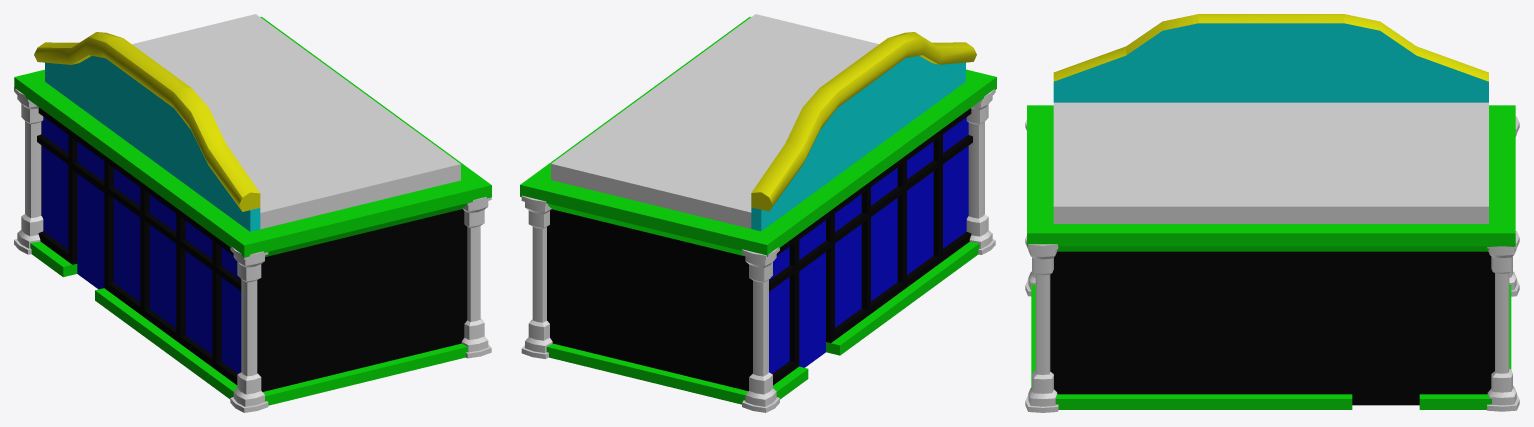
File: PizzaShop.fbx
3 views of the same model, side by side, from view 1: azimuth 30°, elevation 25°; view 2: azimuth 150°, elevation 25°; view 3: azimuth 270°, elevation 25° (orthographic). The views are drawn at different scales.
Parts seen in each view (by area): view 1: pCube232, pCube233, pCube234, pCube279; view 2: pCube232, pCube234, pCube276, pCube233; view 3: pCube232, pCube279, pCube276.
Part boxes in pixels (bbox=[...]): pCube232: bbox=[14, 14, 491, 405]; pCube233: bbox=[230, 247, 268, 412]; pCube234: bbox=[14, 87, 43, 254]; pCube279: bbox=[461, 197, 491, 358]; pCube232: bbox=[520, 14, 996, 404]; pCube234: bbox=[742, 247, 779, 412]; pCube276: bbox=[521, 195, 552, 359]; pCube233: bbox=[966, 89, 995, 254]; pCube232: bbox=[1027, 14, 1515, 409]; pCube279: bbox=[1025, 235, 1058, 412]; pCube276: bbox=[1487, 231, 1519, 411].
Bounding box in the file's own units: 12.36 × 12.34 × 19.82.
